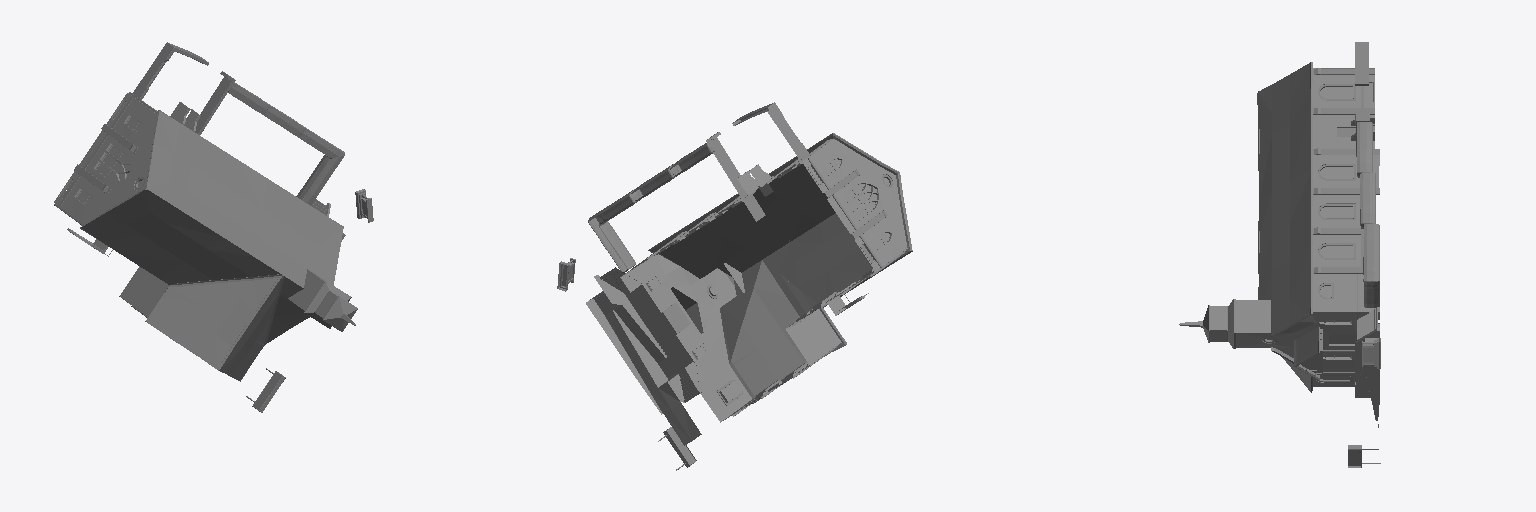
The model's file is sc1_12_church.obj.
3 views of the same model, side by side, from view 1: azimuth 30°, elevation 25°; view 2: azimuth 150°, elevation 25°; view 3: azimuth 270°, elevation 25° (orthographic).
Bounding box in the file's own units: 41.94 × 47.93 × 22.87.